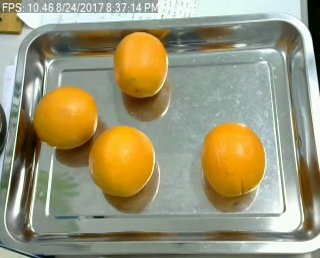Orange: (88, 124, 156, 196), (202, 122, 265, 198), (32, 85, 97, 148), (114, 31, 169, 97)
